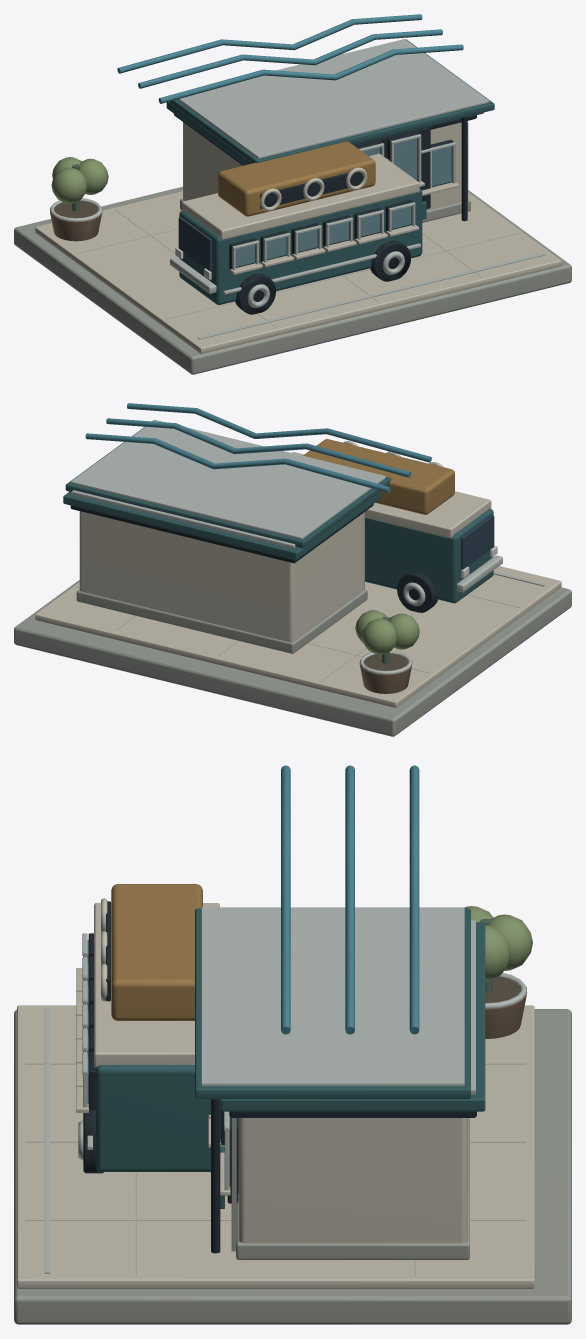
Rendered from idea-ec476d1f.glb.
The picture shows the model from 3 angles, top to bottom: view 1: azimuth 30°, elevation 25°; view 2: azimuth 150°, elevation 25°; view 3: azimuth 270°, elevation 25°; orthographic projection. The views are drawn at different scales.
Parts seen in each view (by area): view 1: WindPanel; view 2: WindPanel; view 3: WindPanel.
Boxes of the visible parts, x1,y1,x2,y2 form: WindPanel: (14,14,571,374); WindPanel: (14,403,571,736); WindPanel: (14,765,571,1324).
Size of the model in its own units: 4.8 by 2.45 by 3.9.
